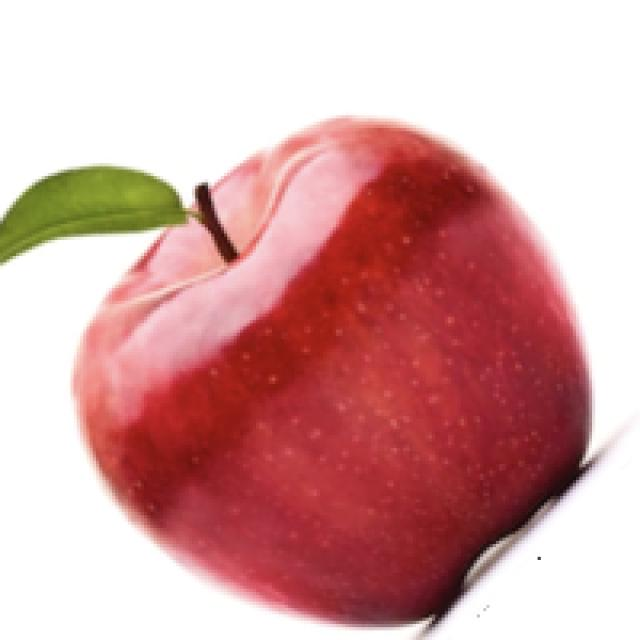apple: (0, 109, 634, 637)
